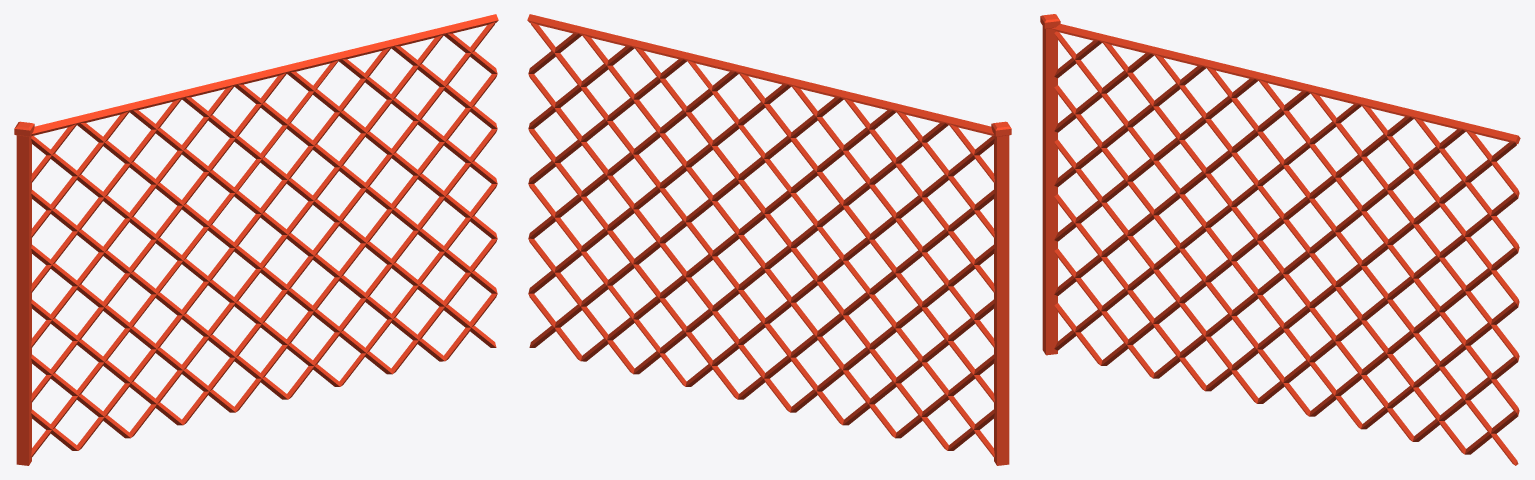
Rendered from SM_Fence_Chainlink_Low_3m_City.fbx.
The picture shows the model from 3 angles, left to right: view 1: azimuth 30°, elevation 25°; view 2: azimuth 150°, elevation 25°; view 3: azimuth 330°, elevation 25°; orthographic projection.
Parts seen in each view (by area): view 1: SM_Fence_Chainlink_Low_3m_City; view 2: SM_Fence_Chainlink_Low_3m_City; view 3: SM_Fence_Chainlink_Low_3m_City.
Boxes of the visible parts, <box> form: SM_Fence_Chainlink_Low_3m_City: <box>14,14,498,465</box>; SM_Fence_Chainlink_Low_3m_City: <box>527,14,1011,465</box>; SM_Fence_Chainlink_Low_3m_City: <box>1040,14,1520,465</box>.
Size of the model in its own units: 3.06 by 2.05 by 0.1295.
